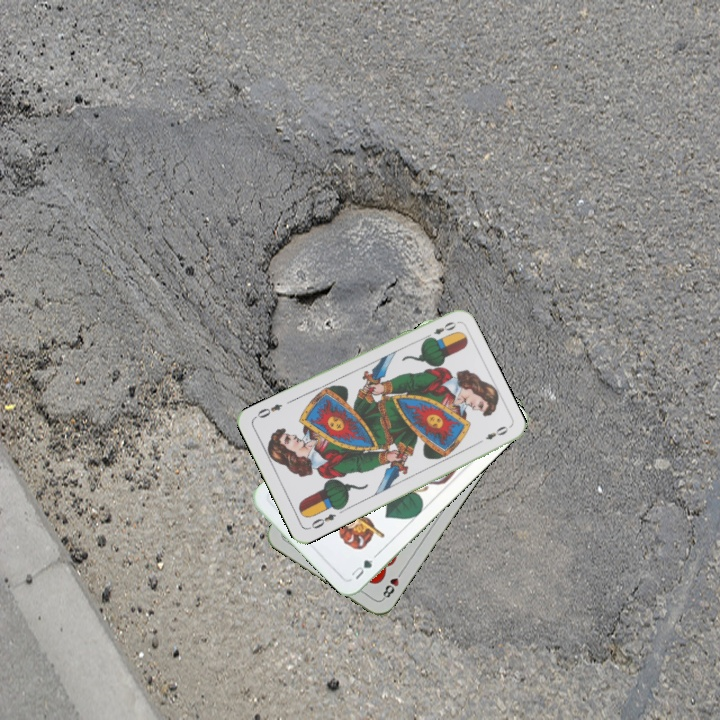EO: (421, 317, 459, 342), (305, 510, 338, 532)
GU: (347, 554, 376, 582)
H8: (378, 566, 406, 602)
